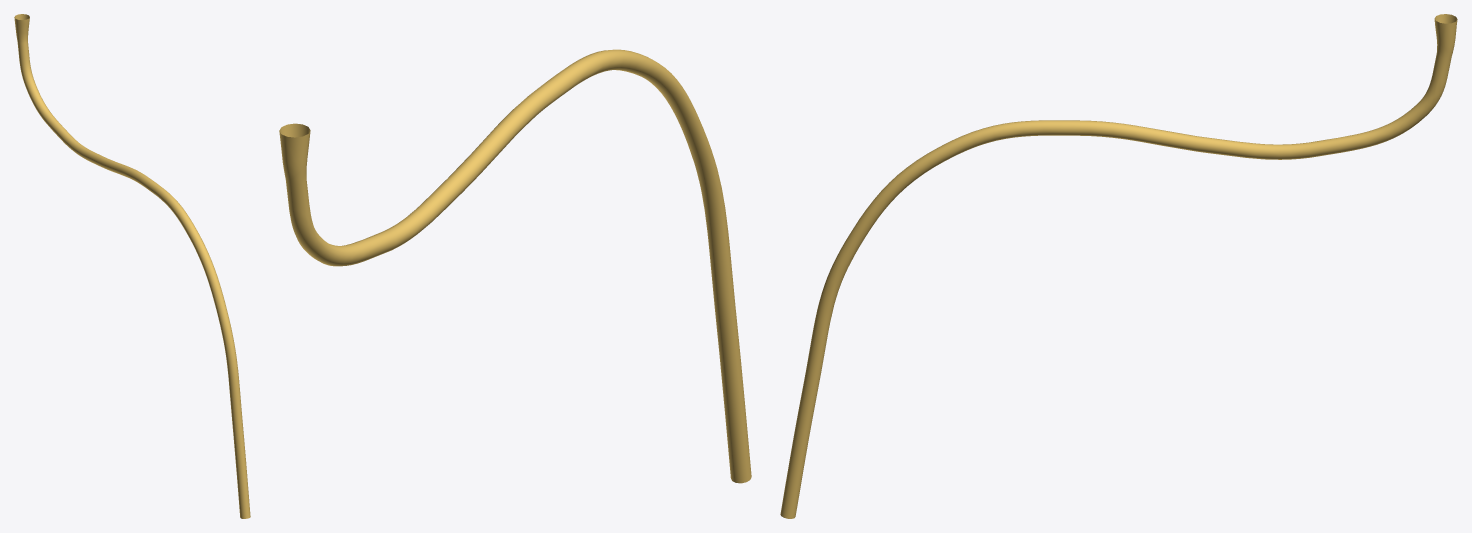
The model's file is visceras-urethra.glb.
3 renders of one model, left to right at view 1: azimuth 30°, elevation 25°; view 2: azimuth 150°, elevation 25°; view 3: azimuth 270°, elevation 25°, orthographic. The views are drawn at different scales.
Parts seen in each view (by area): view 1: Urethra; view 2: Urethra; view 3: Urethra.
Part boxes in pixels (box(x1,y1,x2,y2)): Urethra: box(14, 14, 250, 518); Urethra: box(279, 49, 751, 483); Urethra: box(780, 14, 1457, 518).
Bounding box in the file's own units: 0.0036 × 0.0858 × 0.1057.
